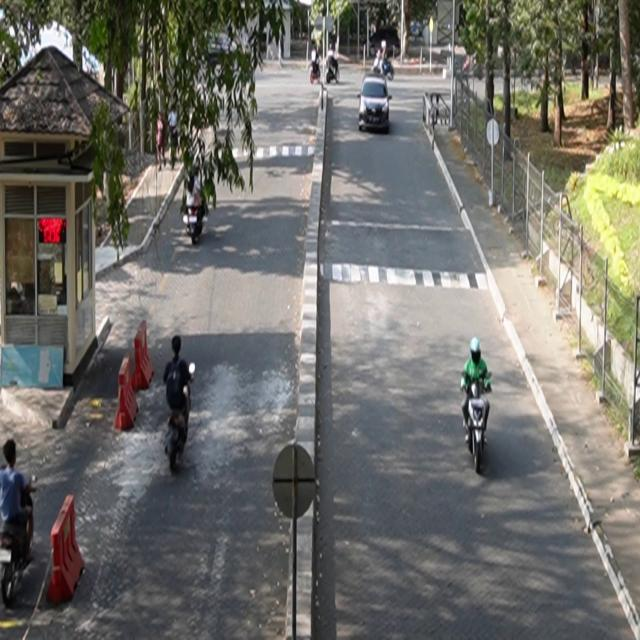car: (359, 74, 393, 134)
